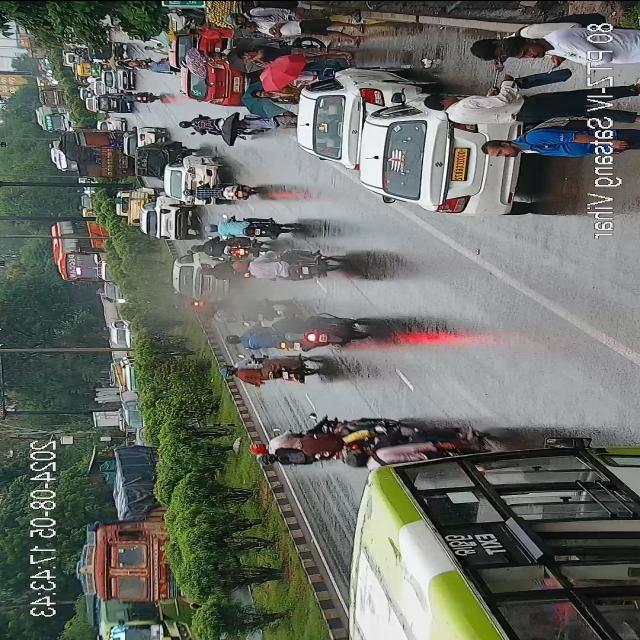2-wheelers: (242, 407, 398, 467), (215, 336, 324, 388), (225, 249, 337, 281), (249, 316, 365, 344), (204, 216, 288, 240), (187, 178, 257, 204), (205, 297, 279, 320), (177, 115, 245, 138), (191, 242, 267, 256), (97, 91, 133, 112), (196, 263, 242, 278), (126, 90, 160, 108), (118, 56, 152, 74)
auto: (134, 140, 182, 178)
bus: (332, 428, 636, 640), (48, 218, 118, 282), (102, 602, 190, 640)
car: (364, 100, 530, 214), (295, 70, 398, 162), (166, 156, 221, 210), (187, 63, 246, 106), (170, 252, 224, 294), (140, 199, 188, 237), (165, 155, 192, 205), (124, 127, 160, 163), (116, 353, 144, 397), (102, 64, 134, 92)
pedestrian: (427, 92, 640, 124), (476, 120, 595, 166), (224, 1, 360, 24), (477, 32, 547, 70), (235, 44, 353, 62), (232, 21, 362, 37), (240, 117, 298, 131), (190, 23, 227, 37), (254, 89, 292, 102), (139, 62, 175, 72), (205, 50, 229, 61), (144, 44, 169, 52), (159, 56, 173, 62)
truck: (75, 444, 165, 604), (53, 130, 116, 178)
